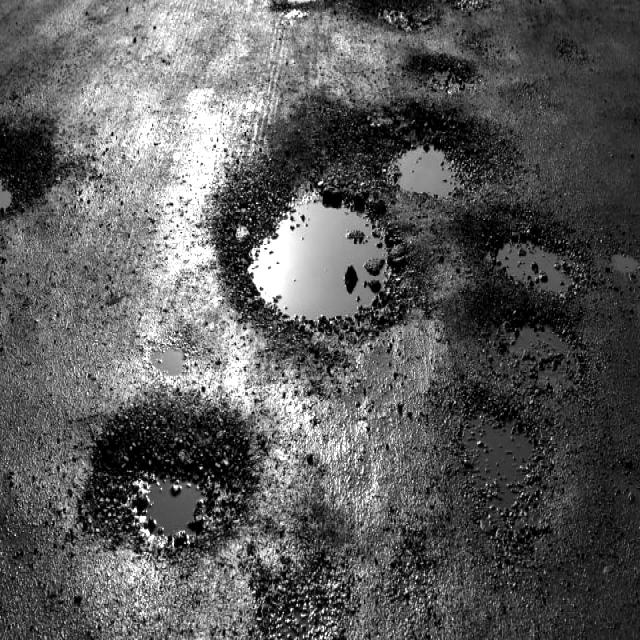pathole: (92, 44, 600, 640)
